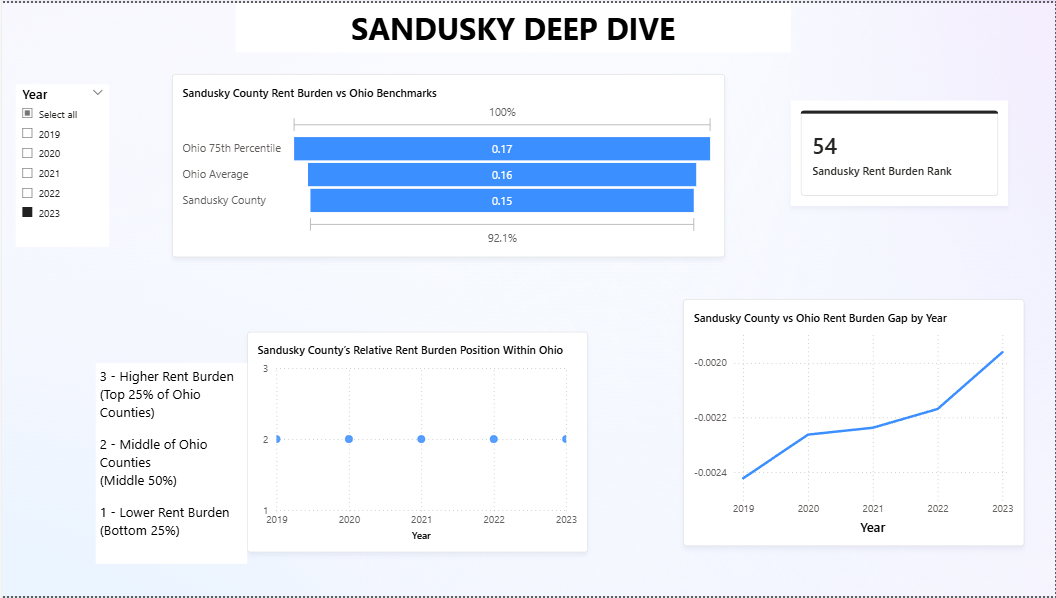

Layout of this report page (visuals, bound fields, positions):
{"tool":"powerbi","page":{"name":"Sandusky Deep Dive","canvas":[1280,720],"ordinal":2},"visuals":[{"type":"funnel","title":"Sandusky County Rent Burden vs Ohio Benchmarks","fields":{"Category":["Rent Burden Comparison.Category"],"Y":["Rent Burden Comparison.Rent Burden Value"]},"box":[206,86,672,222],"z":0},{"type":"cardVisual","fields":{"Data":["Fact_Housing_Affordability.Sandusky Rent Burden Rank"]},"box":[958,118,264,128],"z":1000},{"type":"slicer","fields":{"Values":["Dim_Year.Year"]},"box":[17.1,98,113.6,197.6],"z":2000},{"type":"lineChart","title":"Sandusky County vs Ohio Rent Burden Gap by Year","fields":{"Y":["Fact_Housing_Affordability.Sandusky vs Ohio Gap"],"Category":["Dim_Year.Year"]},"box":[828,360,414,300],"z":3000},{"type":"scatterChart","title":"Sandusky County’s Relative Rent Burden Position Within Ohio","fields":{"X":["Dim_Year.Year"],"Y":["Fact_Housing_Affordability.Sandusky Band Index"]},"box":[298,400,414,268],"z":4000},{"type":"textbox","box":[113.9,429.5,183.9,252.5],"z":5000},{"type":"textbox","box":[284,0,674,60],"z":6000}]}

Visuals, with their boxes in screenshot pixels (x1, y1, x2, y2), scaled from the page's 1280x720 canvas onto the 1056x598 screenshot:
"Sandusky County Rent Burden vs Ohio Benchmarks" funnel: <box>170,71,724,256</box>
cardVisual - Fact_Housing_Affordability.Sandusky Rent Burden Rank: <box>790,98,1008,204</box>
slicer - Dim_Year.Year: <box>14,81,108,246</box>
"Sandusky County vs Ohio Rent Burden Gap by Year" lineChart: <box>683,299,1025,548</box>
"Sandusky County’s Relative Rent Burden Position Within Ohio" scatterChart: <box>246,332,587,555</box>
textbox: <box>94,357,246,566</box>
textbox: <box>234,0,790,50</box>
